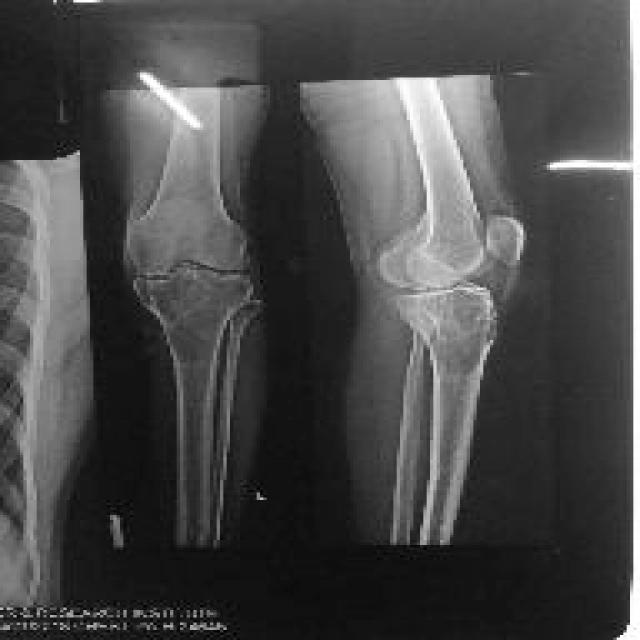bone-cancer: (407, 285, 498, 378), (151, 277, 238, 365)
